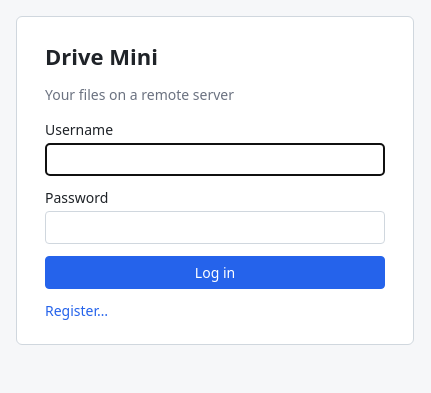
a wrong password shows the server's message
Type "ivanka" into the field labelled "Username".
click(215, 160); type("ivanka")  # box [45,143,385,176]
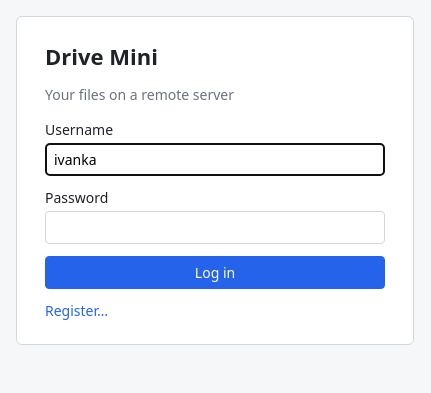
Type "wrong" into the password field labelled "Password".
click(215, 228); type("wrong")  # box [45,211,385,244]
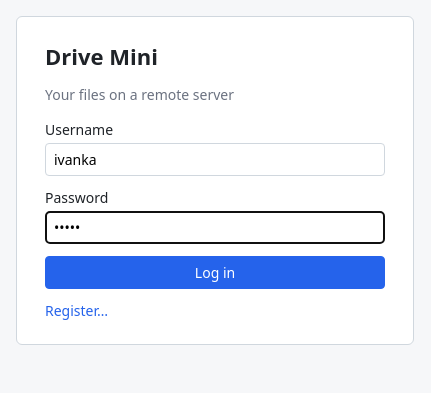
Click the button "Log in".
click(215, 273)  # box [45,256,385,289]
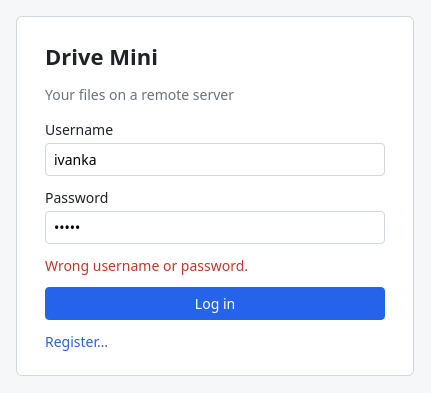
Result: the message reads "Wrong username or password." at [45,256,248,275]
